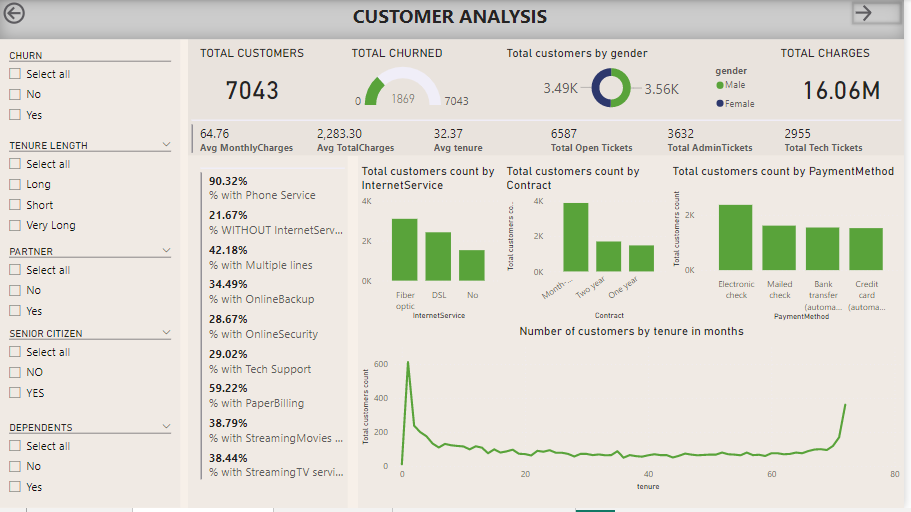

Layout of this report page (visuals, bound fields, positions):
{"tool":"powerbi","page":{"name":"Customer Analysis","canvas":[1280,720],"ordinal":0},"visuals":[{"type":"textbox","box":[506.4,222.1,773.8,497.9],"z":0},{"type":"textbox","box":[265.9,222.1,226.3,497.9],"z":1000},{"type":"textbox","box":[0,56.6,254.6,663.4],"z":2000},{"type":"textbox","box":[265.9,56,1014.6,165.3],"z":3000},{"type":"textbox","box":[0,0,1280.5,56],"z":4000},{"type":"card","title":"TOTAL CUSTOMERS","fields":{"Values":["measures (2).Total customers count"]},"box":[265.9,66.5,181.1,99],"z":5000},{"type":"gauge","title":"TOTAL CHURNED","fields":{"Y":["measures (2).total churned"],"MaxValue":["measures (2).Total customers count"]},"box":[492.3,66.5,181.1,99],"z":6000},{"type":"donutChart","title":"Total customers by gender","fields":{"Category":["01 Churn-Dataset.gender"],"Y":["measures (2).Total customers count"]},"box":[711.4,66.1,370.8,99.2],"z":7000},{"type":"multiRowCard","fields":{"Values":["Avg(01 Churn-Dataset.MonthlyCharges)","Avg(01 Churn-Dataset.TotalCharges)","Avg(01 Churn-Dataset.tenure)","Sum(01 Churn-Dataset.numOpenTickets)","Sum(01 Churn-Dataset.numAdminTickets)","Sum(01 Churn-Dataset.numTechTickets)"]},"box":[265.9,165.5,1014.2,56.6],"z":8000},{"type":"card","title":"TOTAL CHARGES","fields":{"Values":["Sum(01 Churn-Dataset.TotalCharges)"]},"box":[1099.4,66.1,181.1,99.2],"z":9000},{"type":"slicer","fields":{"Values":["01 Churn-Dataset.Churn"]},"box":[0,66.5,254.6,127.3],"z":10000},{"type":"lineChart","title":"Number of customers by tenure in months","fields":{"Category":["01 Churn-Dataset.tenure"],"Y":["measures (2).Total customers count"]},"box":[506.4,459.7,773.8,240.5],"z":11000},{"type":"slicer","fields":{"Values":["01 Churn-Dataset.Tenure Length"]},"box":[0,193.8,254.6,149.9],"z":12000},{"type":"slicer","fields":{"Values":["01 Churn-Dataset.Partner"]},"box":[0,343.7,254.6,116],"z":13000},{"type":"slicer","fields":{"Values":["01 Churn-Dataset.SeniorCitizen"]},"box":[0,459.7,254.6,133],"z":14000},{"type":"slicer","fields":{"Values":["01 Churn-Dataset.Dependents"]},"box":[0,592.7,254.6,127.3],"z":15000},{"type":"columnChart","fields":{"Category":["01 Churn-Dataset.InternetService"],"Y":["measures (2).Total customers count"]},"box":[506.4,233.4,205.1,224.9],"z":16000},{"type":"columnChart","fields":{"Category":["01 Churn-Dataset.PaymentMethod"],"Y":["measures (2).Total customers count"]},"box":[946.3,233.4,333.8,226.3],"z":17000},{"type":"columnChart","fields":{"Category":["01 Churn-Dataset.Contract"],"Y":["measures (2).Total customers count"]},"box":[711.5,233.4,239.1,224.9],"z":18000},{"type":"multiRowCard","fields":{"Values":["measures (2).% of Customers with Phone Service","measures (2).% of Customers WITHOUT InternetService","measures (2).% of Customers with Multiple lines","measures (2).% of Customers with OnlineBackup","measures (2).% of Customers with OnlineSecurity","measures (2).% of Customers with Tech Support","measures (2).% of Customers with PaperBilling","measures (2).% of Customers with StreamingMovies Service","measures (2).% of Customers with StreamingTV service"]},"box":[278.7,233.4,213.6,486.6],"z":19000}]}

Visuals, with their boxes on the page's 1280x720 design canvas (x1, y1, x2, y2). These are canvas units, not pixel positions in the 911x512 screenshot, which may show the page scaled, cropped or inside an application window:
textbox: detection(506, 222, 1280, 720)
textbox: detection(266, 222, 492, 720)
textbox: detection(0, 57, 255, 720)
textbox: detection(266, 56, 1280, 221)
textbox: detection(0, 0, 1280, 56)
"TOTAL CUSTOMERS" card: detection(266, 66, 447, 166)
"TOTAL CHURNED" gauge: detection(492, 66, 673, 166)
"Total customers by gender" donutChart: detection(711, 66, 1082, 165)
multiRowCard - Avg(01 Churn-Dataset.MonthlyCharges) x Avg(01 Churn-Dataset.TotalCharges): detection(266, 166, 1280, 222)
"TOTAL CHARGES" card: detection(1099, 66, 1280, 165)
slicer - 01 Churn-Dataset.Churn: detection(0, 66, 255, 194)
"Number of customers by tenure in months" lineChart: detection(506, 460, 1280, 700)
slicer - 01 Churn-Dataset.Tenure Length: detection(0, 194, 255, 344)
slicer - 01 Churn-Dataset.Partner: detection(0, 344, 255, 460)
slicer - 01 Churn-Dataset.SeniorCitizen: detection(0, 460, 255, 593)
slicer - 01 Churn-Dataset.Dependents: detection(0, 593, 255, 720)
columnChart - 01 Churn-Dataset.InternetService x measures (2).Total customers count: detection(506, 233, 712, 458)
columnChart - 01 Churn-Dataset.PaymentMethod x measures (2).Total customers count: detection(946, 233, 1280, 460)
columnChart - 01 Churn-Dataset.Contract x measures (2).Total customers count: detection(712, 233, 951, 458)
multiRowCard - measures (2).% of Customers with Phone Service x measures (2).% of Customers WITHOUT InternetService: detection(279, 233, 492, 720)
